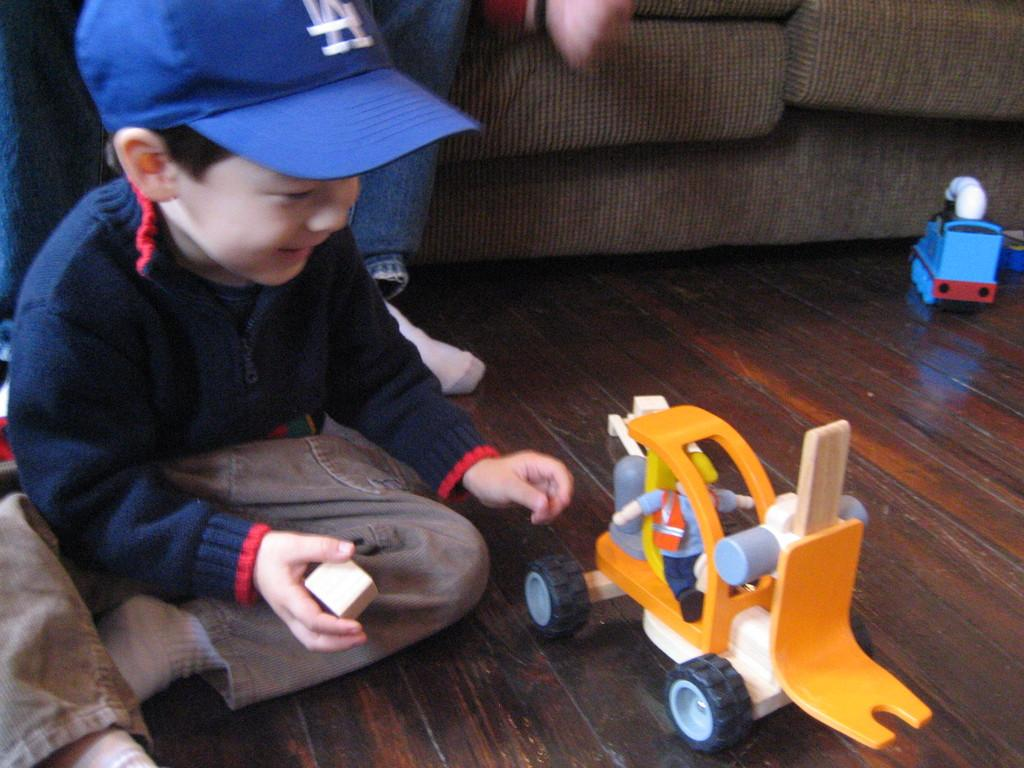Hat: (68, 0, 485, 180)
